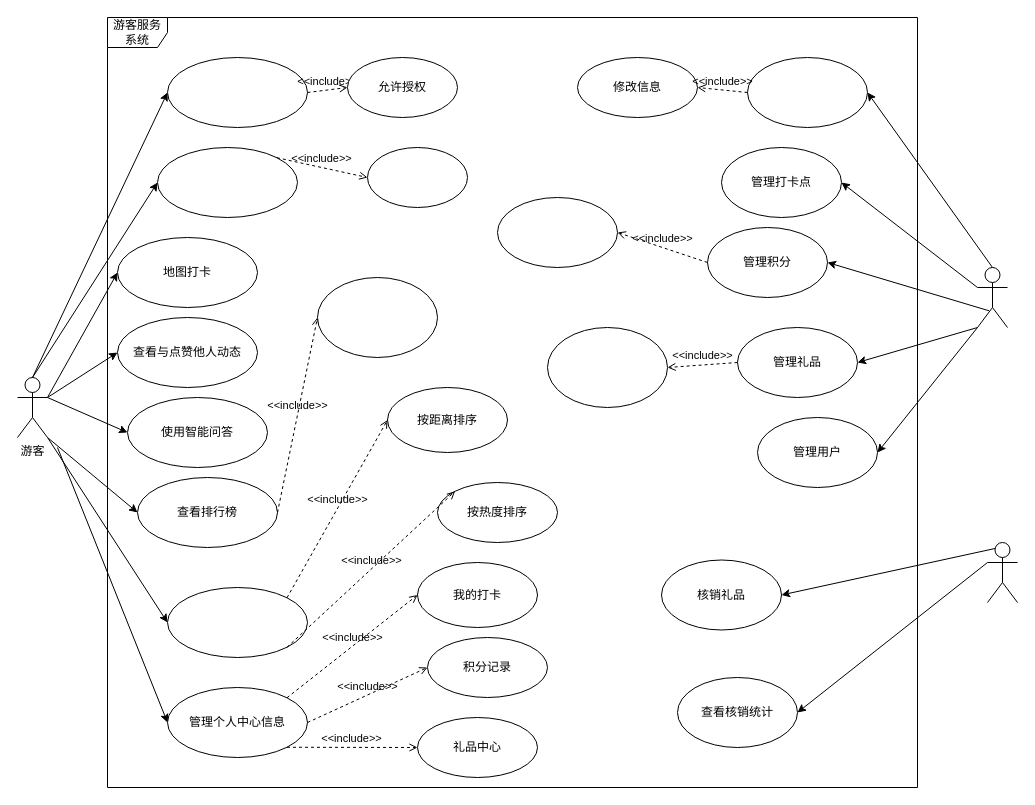
The diagram is 1035 pixels wide and 805 high, and some of its shapes have lost their labels. The centre of each missing label's shape, as x and y in pixels:
"兑换统计" goes at (x=607, y=367).
"商家" goes at (x=1002, y=572).
"导航" goes at (x=417, y=177).
"微信登录" goes at (x=237, y=92).
"查看引领区与景点信息" goes at (x=227, y=182).
"查看记录" goes at (x=557, y=232).
"管理内容" goes at (x=807, y=92).
"管理员" goes at (x=992, y=297).
"跳转到个人主页" goes at (x=377, y=317).
"附近推荐" goes at (x=237, y=622).
